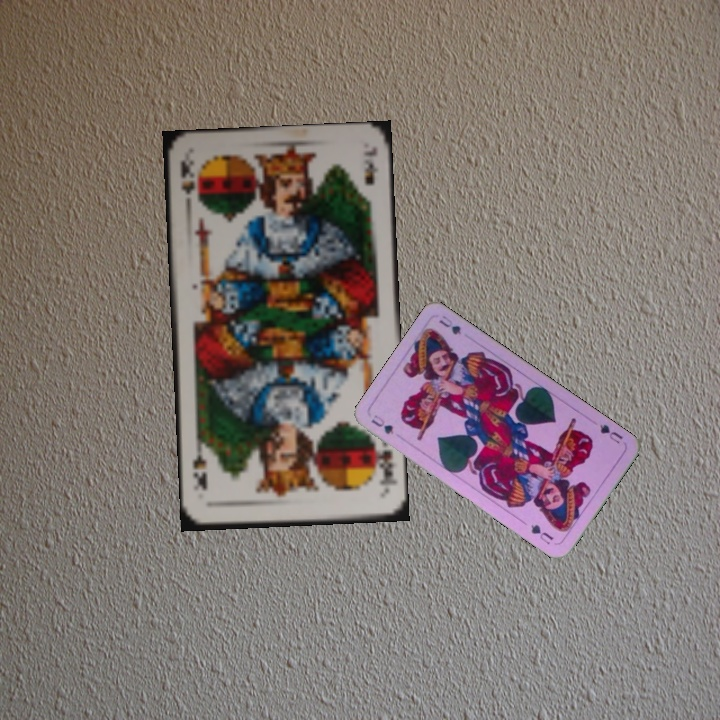GU: (595, 420, 625, 446), (367, 411, 396, 437)
SK: (370, 436, 399, 495), (177, 155, 198, 197)
